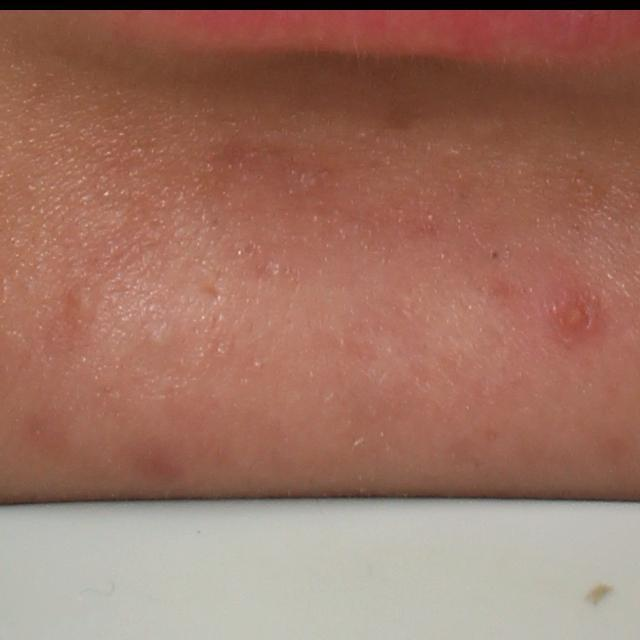comedo: (142, 328, 167, 352)
